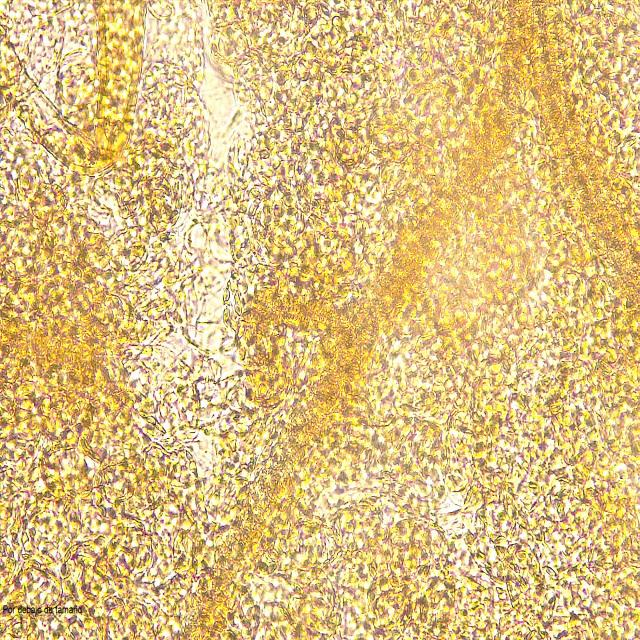Stomata: (229, 55, 279, 114), (55, 50, 105, 109)
